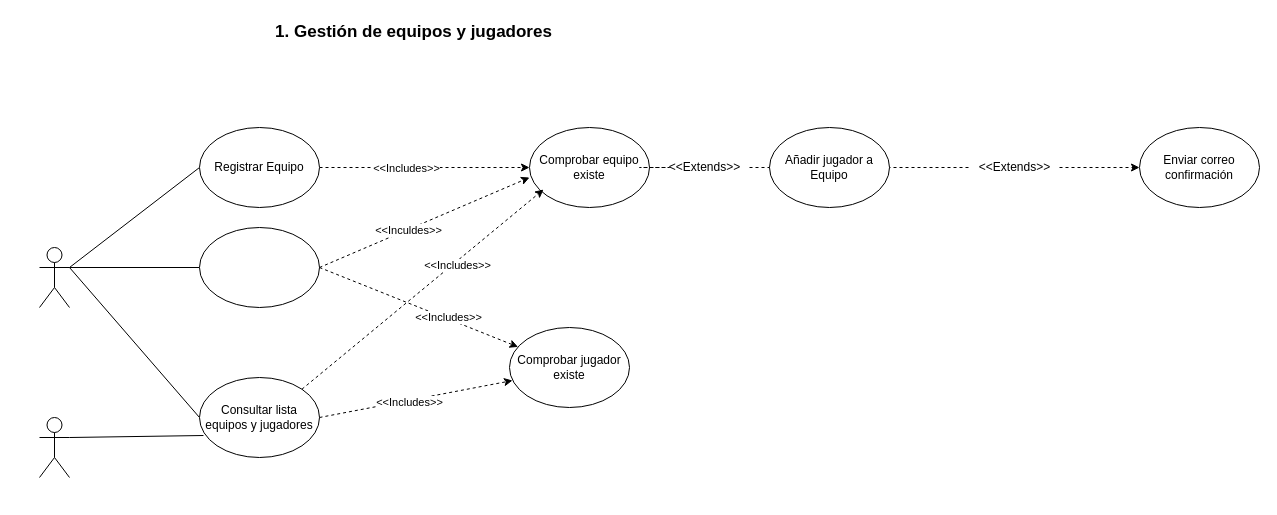
The diagram is 1277 pixels wide and 515 high, and some of its shapes have lost their labels. The centre of each missing label's shape, as x and y in pixels:
"Administrador" belongs at point 54,277.
"Añadir Jugador" belongs at point 259,267.
"Usuario" belongs at point 54,447.
